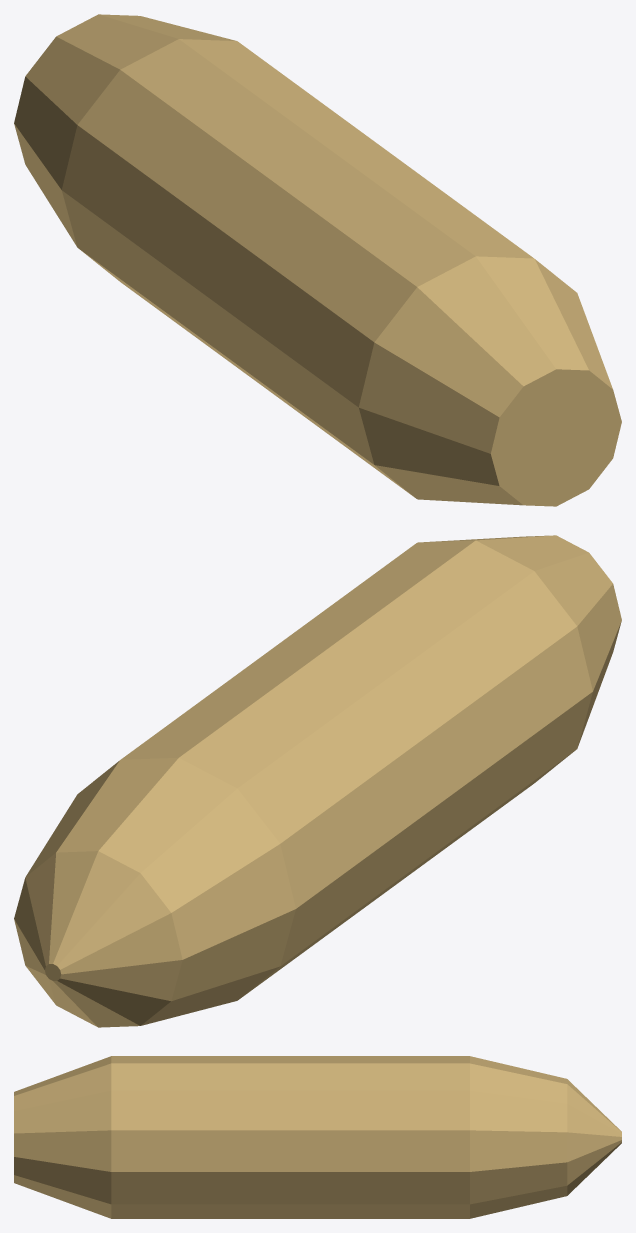
File: PRJ_Ww2DualGun.fbx
3 views of the same model, one above another, from view 1: azimuth 30°, elevation 25°; view 2: azimuth 150°, elevation 25°; view 3: azimuth 270°, elevation 25° (orthographic). The views are drawn at different scales.
Visible parts, largest first — view 1: OrdnanceBody; view 2: OrdnanceBody; view 3: OrdnanceBody.
Part boxes in pixels (x1,y1,x2,y2): OrdnanceBody: (14, 14, 621, 506); OrdnanceBody: (14, 535, 621, 1027); OrdnanceBody: (14, 1056, 621, 1218).
Bounding box in the file's own units: 8.6 × 8.6 × 32.
